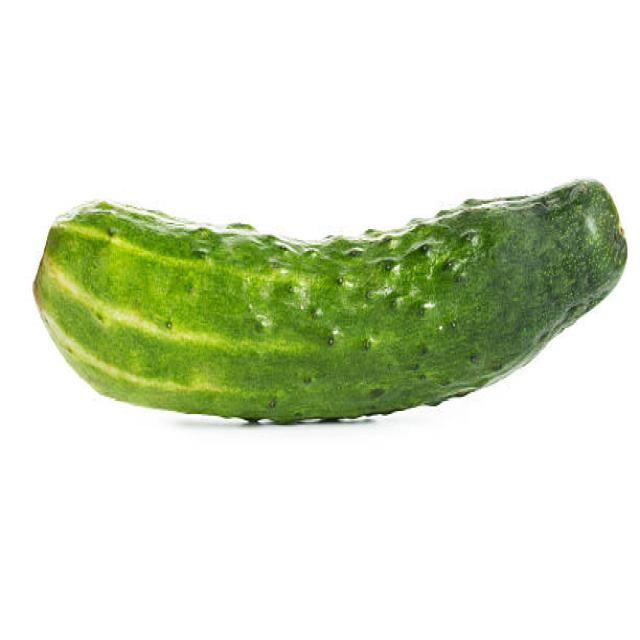cucumber: (34, 180, 629, 420)
